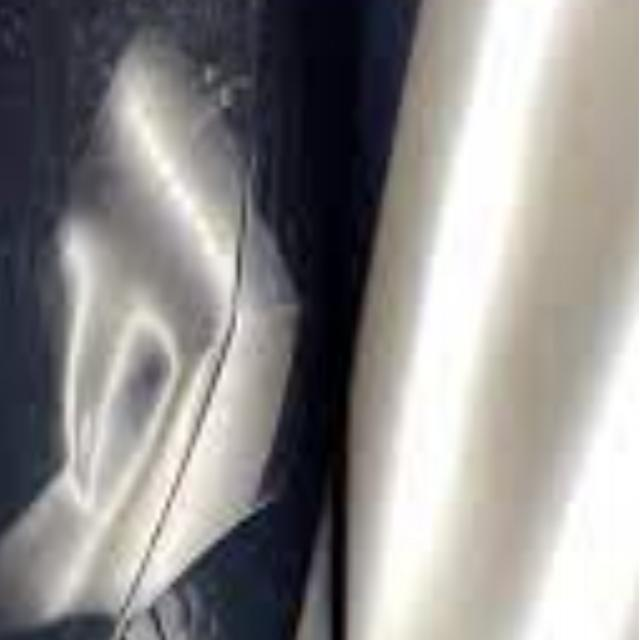dents: (87, 283, 189, 557)
